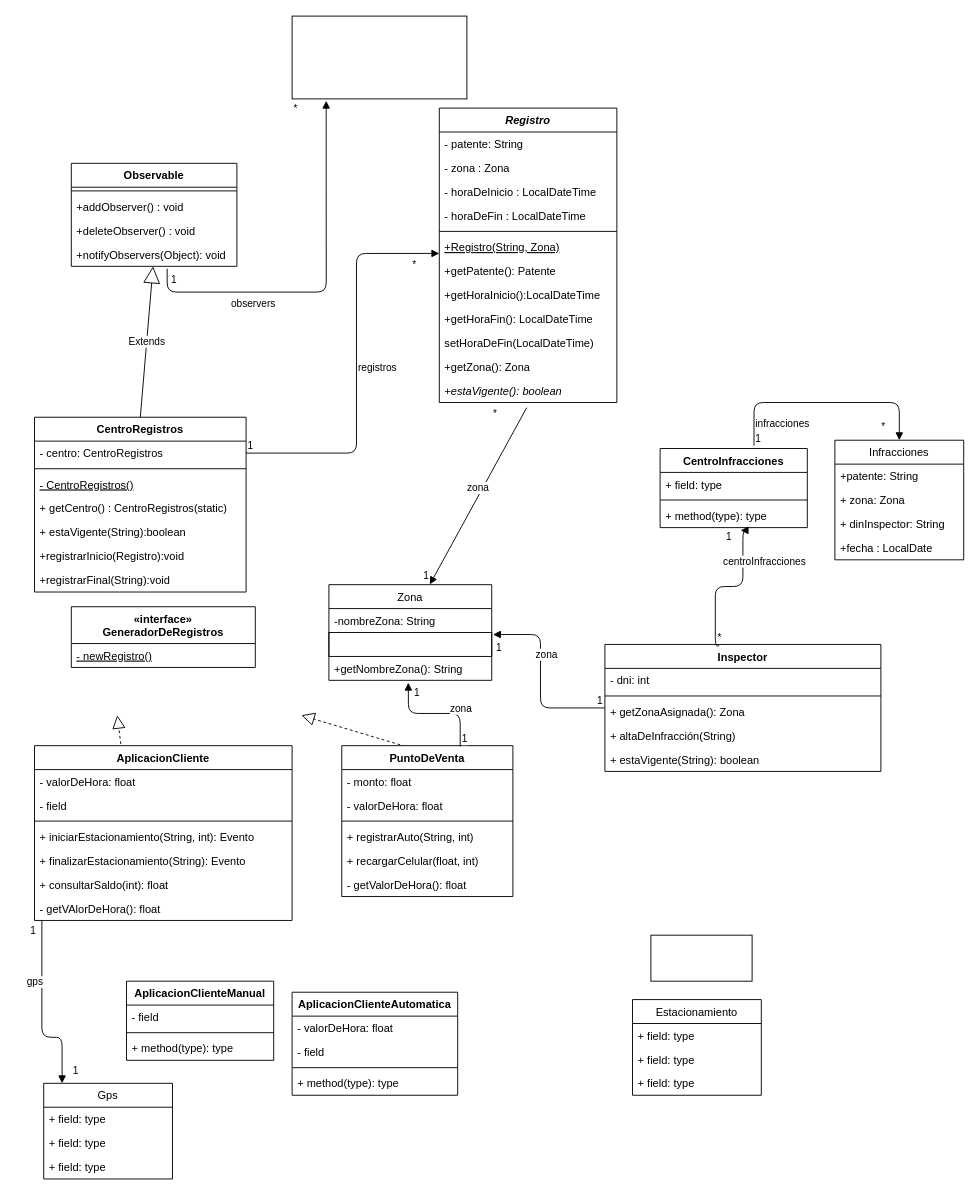
The diagram is 980 pixels wide and 1198 high, and some of its shapes have lost their labels. Here are the shapes that lost their labels. From the top down, the centre of each, then its label:
At point (379, 57): "<<Interface>> Observer +update(Object param): void".
At point (410, 644): "+Zona(String)".
At point (701, 957): "«interface» Entidad".
